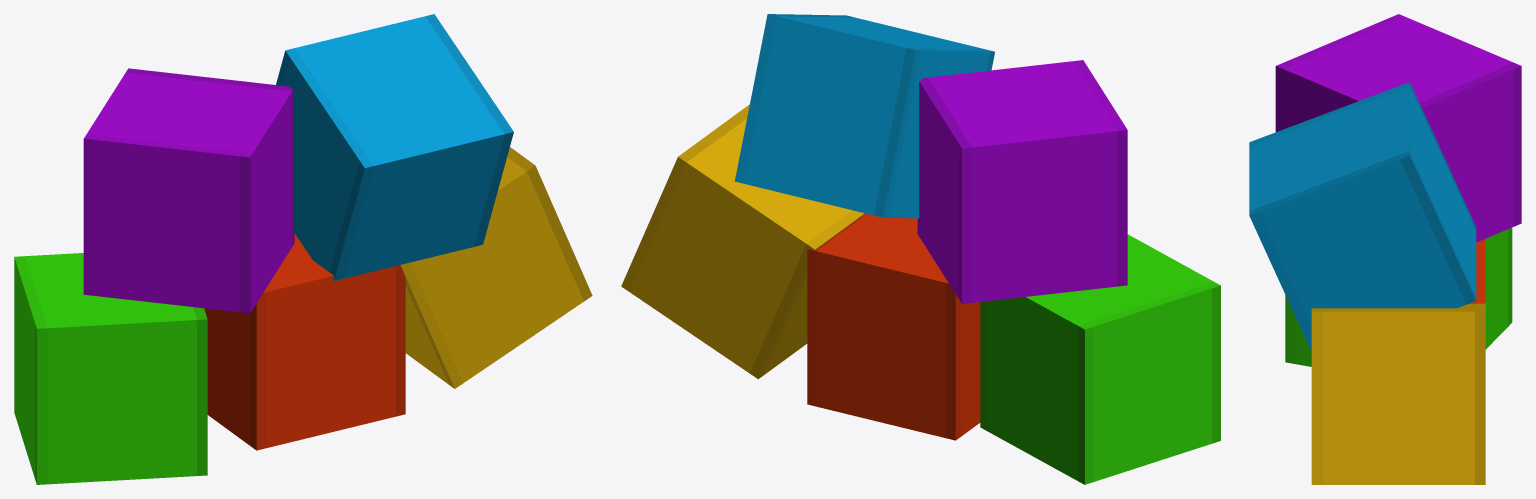
3 renders of one model, left to right at view 1: azimuth 30°, elevation 25°; view 2: azimuth 150°, elevation 25°; view 3: azimuth 270°, elevation 25°, orthographic.
Visible parts, largest first — view 1: de1cbe9e-ac78-2d76-f4b2-9ca2daefb080, 48b6bca6-76e0-3bbb-8b47-a08be05d8da2, f68eb2ad-8097-43dd-375b-ce377f4f20ef, e6aee5de-8fce-84d1-39ef-627d17bb324e, 15f74b64-2c4b-752f-6279-5e6fa0636c9c; view 2: 48b6bca6-76e0-3bbb-8b47-a08be05d8da2, f68eb2ad-8097-43dd-375b-ce377f4f20ef, de1cbe9e-ac78-2d76-f4b2-9ca2daefb080, 15f74b64-2c4b-752f-6279-5e6fa0636c9c, e6aee5de-8fce-84d1-39ef-627d17bb324e; view 3: de1cbe9e-ac78-2d76-f4b2-9ca2daefb080, 15f74b64-2c4b-752f-6279-5e6fa0636c9c, 48b6bca6-76e0-3bbb-8b47-a08be05d8da2, f68eb2ad-8097-43dd-375b-ce377f4f20ef, e6aee5de-8fce-84d1-39ef-627d17bb324e.
Part boxes in pixels (box(x1,y1,x2,y2)): de1cbe9e-ac78-2d76-f4b2-9ca2daefb080: box(276, 14, 513, 280); 48b6bca6-76e0-3bbb-8b47-a08be05d8da2: box(83, 68, 294, 313); f68eb2ad-8097-43dd-375b-ce377f4f20ef: box(14, 253, 207, 484); e6aee5de-8fce-84d1-39ef-627d17bb324e: box(204, 233, 405, 450); 15f74b64-2c4b-752f-6279-5e6fa0636c9c: box(400, 147, 592, 388); 48b6bca6-76e0-3bbb-8b47-a08be05d8da2: box(917, 60, 1127, 303); f68eb2ad-8097-43dd-375b-ce377f4f20ef: box(980, 234, 1220, 484); de1cbe9e-ac78-2d76-f4b2-9ca2daefb080: box(734, 14, 994, 218); 15f74b64-2c4b-752f-6279-5e6fa0636c9c: box(621, 104, 865, 379); e6aee5de-8fce-84d1-39ef-627d17bb324e: box(807, 213, 980, 440); de1cbe9e-ac78-2d76-f4b2-9ca2daefb080: box(1249, 82, 1476, 351); 15f74b64-2c4b-752f-6279-5e6fa0636c9c: box(1311, 303, 1485, 484); 48b6bca6-76e0-3bbb-8b47-a08be05d8da2: box(1275, 14, 1521, 242); f68eb2ad-8097-43dd-375b-ce377f4f20ef: box(1285, 227, 1512, 366); e6aee5de-8fce-84d1-39ef-627d17bb324e: box(1470, 239, 1485, 303).
Size of the model in its own units: 28.75 by 17.73 by 12.53.
5 materials, 5 textured.
